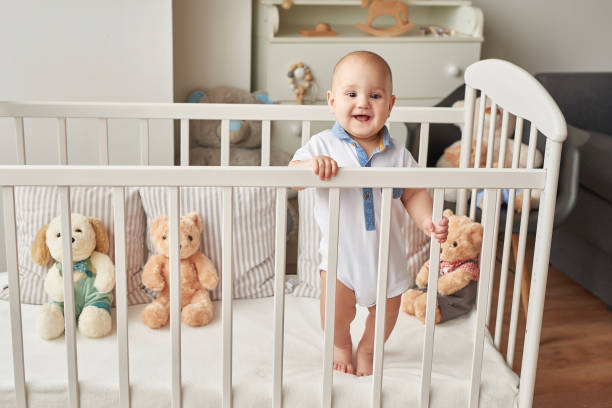baby: (333, 188, 381, 375)
crib: (0, 60, 565, 406)
